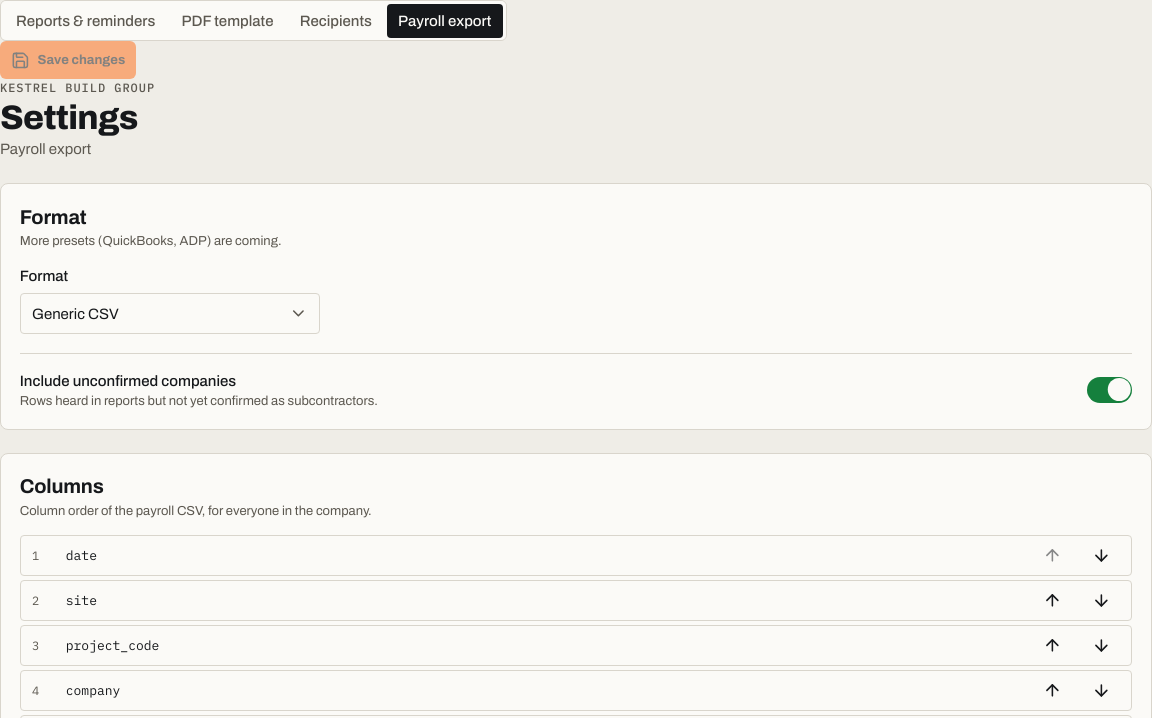
SettingsPage (demo data) › reorders payroll columns and saves them to org_settings (not localStorage)
The width and height of the screenshot is (1152, 718).
Expected: the heading "Settings" is shown, [0, 100, 155, 134]
Expected: the button with test id "save-settings" is disabled, [0, 41, 136, 79]
Click the button named "Move company up" at (1053, 691), box [1034, 672, 1071, 710]
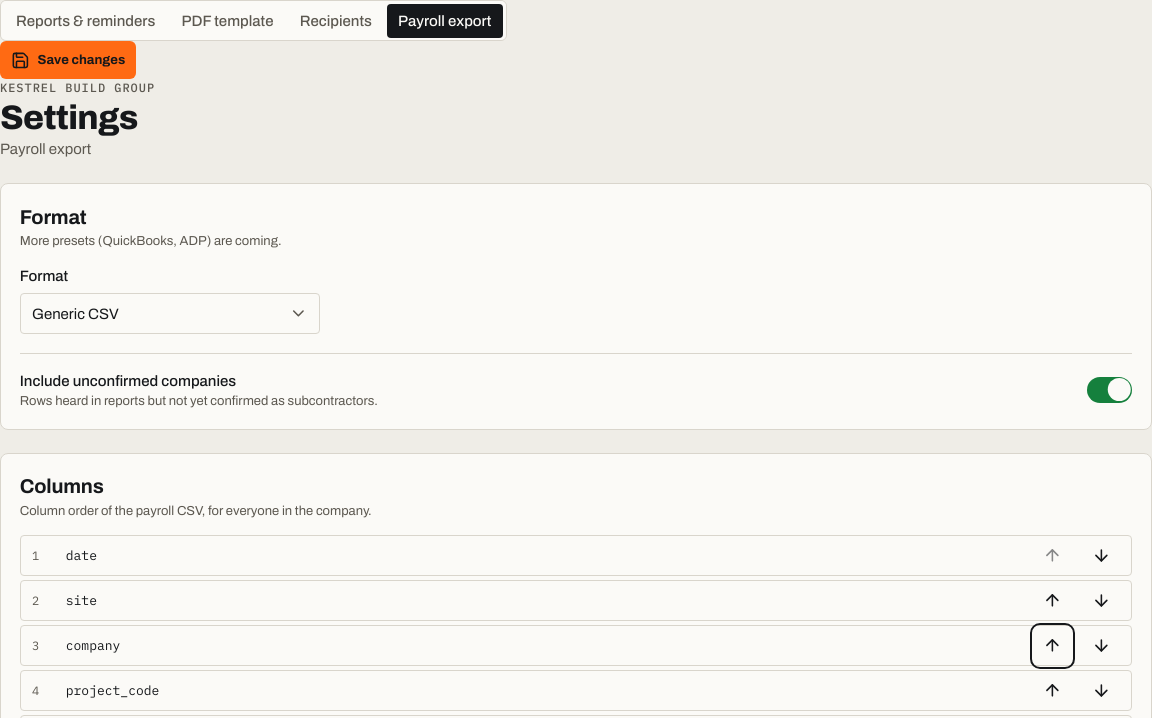
Click the button named "Move company up" at (1053, 646), box [1034, 627, 1071, 664]
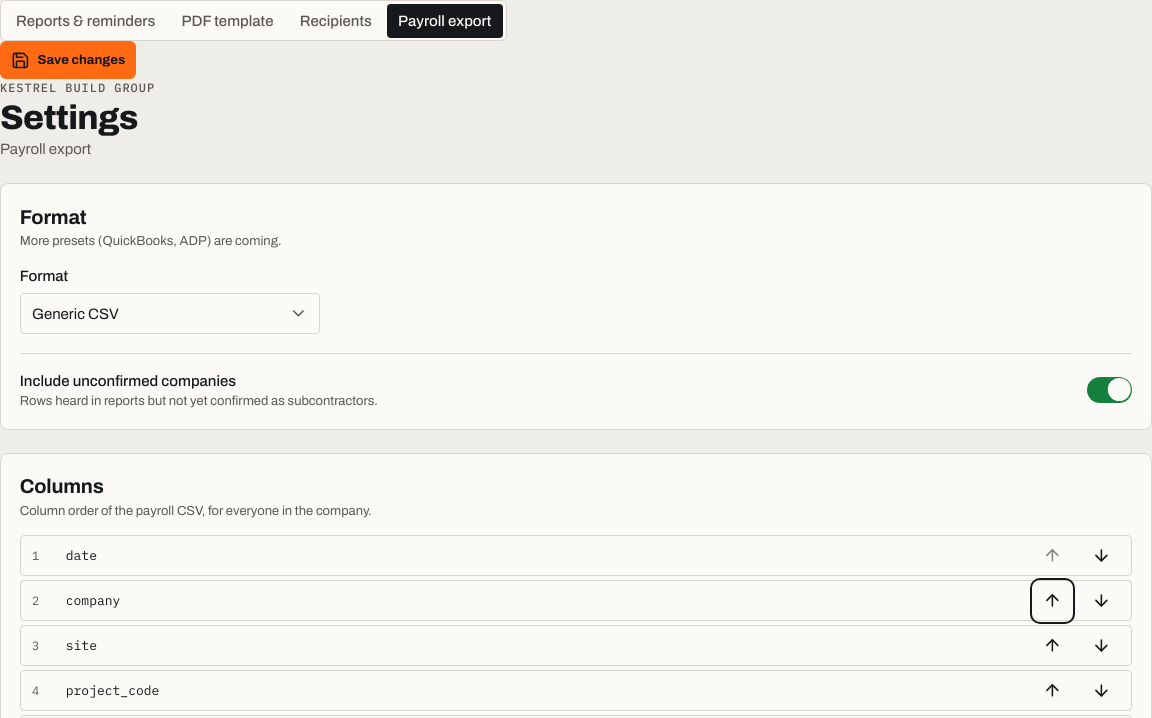
Click the button named "Move company up" at (1053, 601), box [1034, 582, 1071, 620]
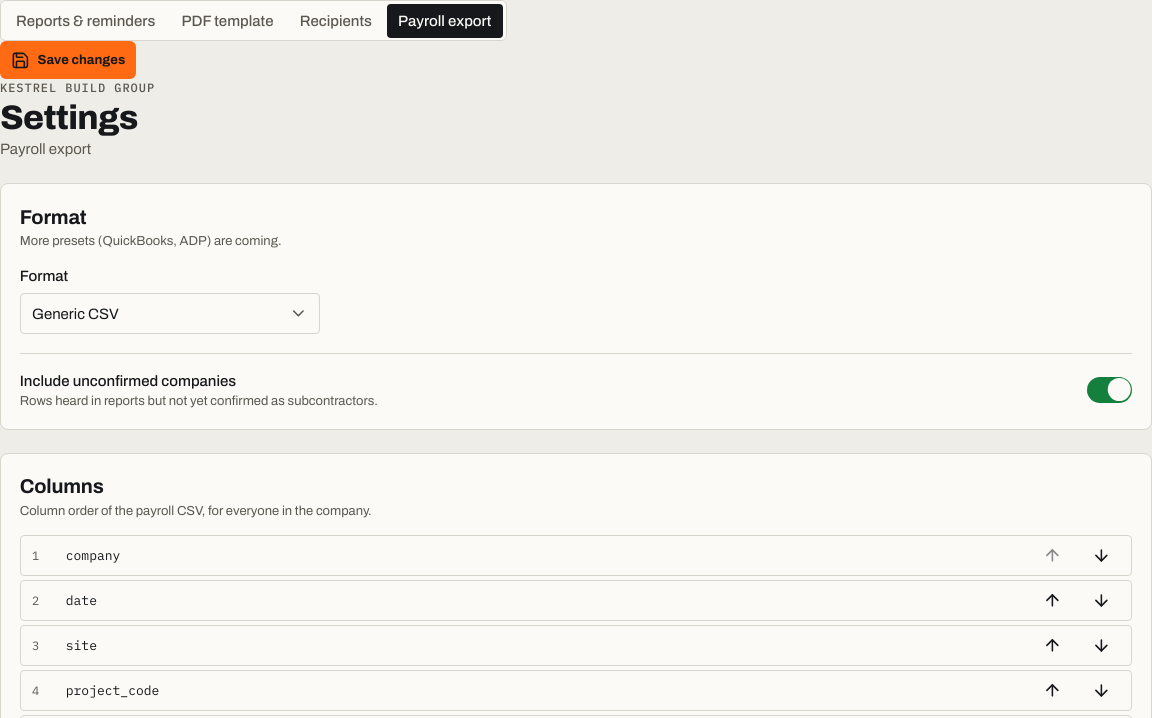
Expected: the list item "1 company" is shown, [20, 535, 1132, 576]
Now the button with test id "save-settings" is enabled
Click the button with test id "save-settings" at (68, 60), box [0, 41, 136, 79]
(page scrolled)
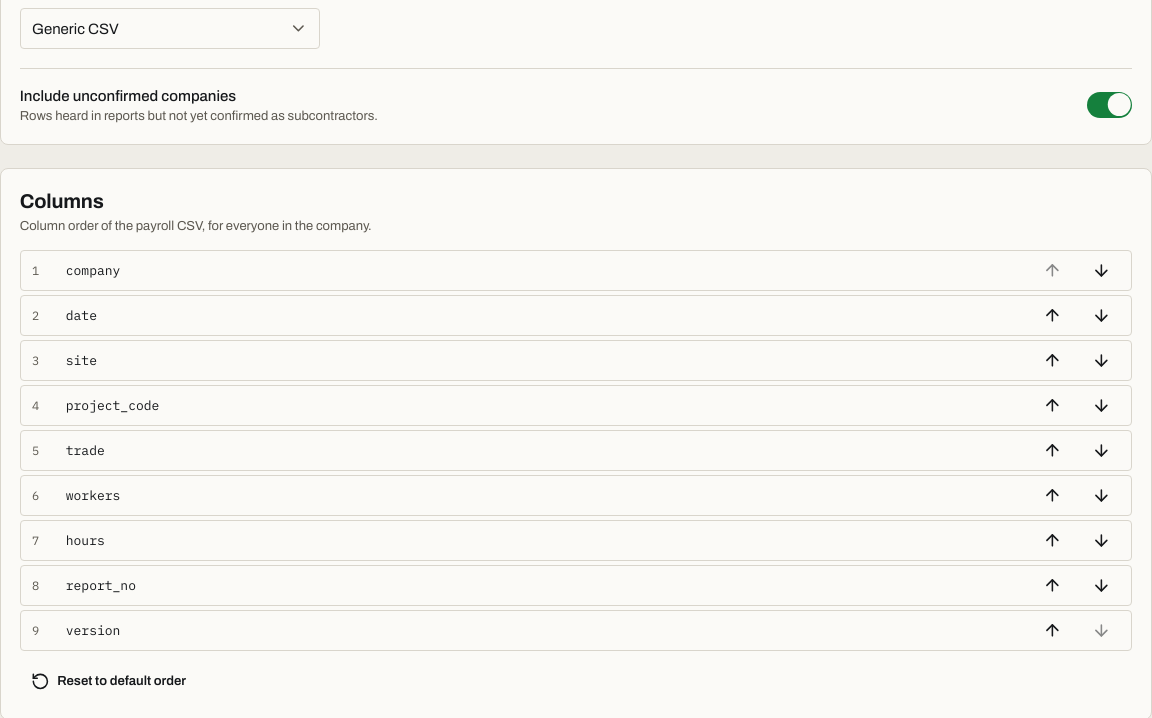
Click the button "Reset to default order" at (109, 681), box [20, 663, 197, 700]
(page scrolled)
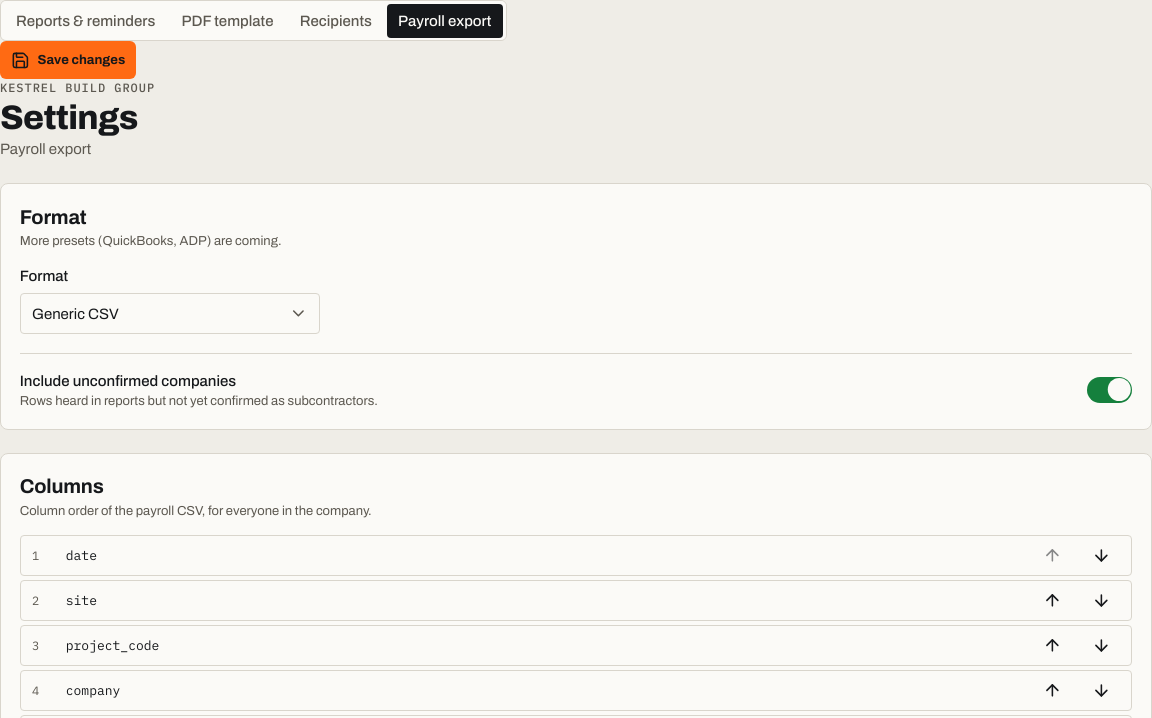
Expected: the list item "1 date" is shown, [20, 535, 1132, 576]
Now the button with test id "save-settings" is enabled, box [0, 41, 136, 79]
